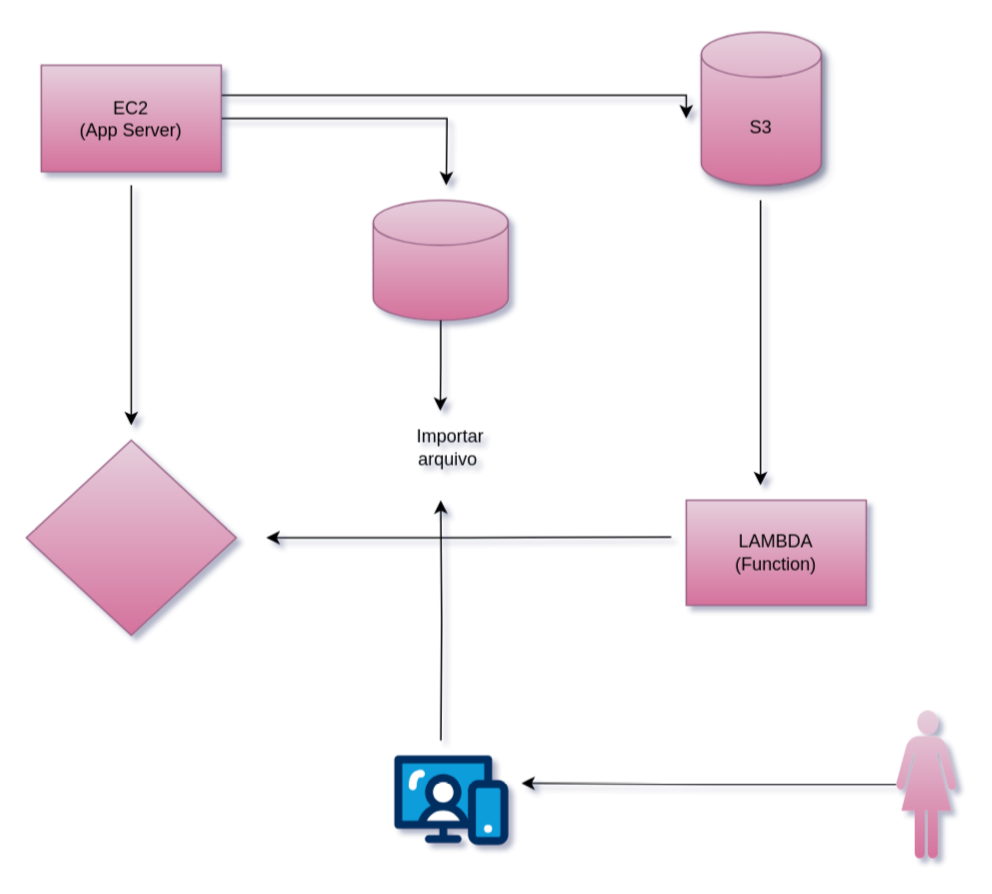
The diagram is 992 pixels wide and 894 high, and some of its shapes have lost their labels. Here are the shapes that lost their labels. From the top down, the centre of each, then its label:
[440,259]: D - EBS
[130,537]: EBS (Block storage)
